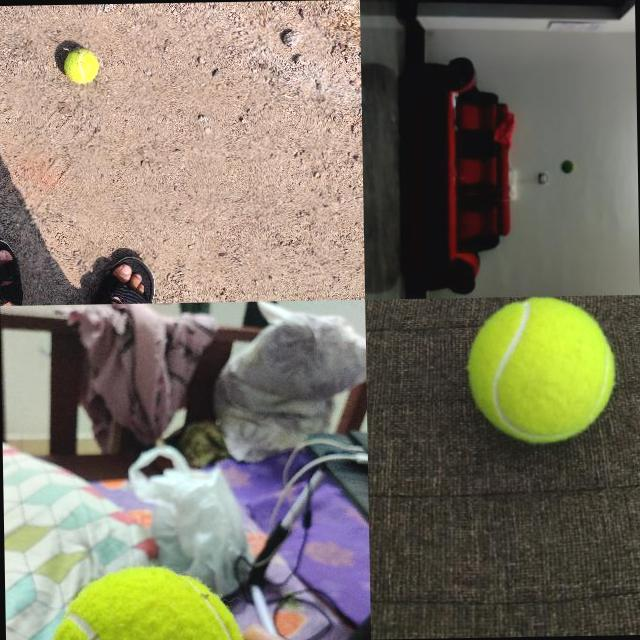Tennis Ball: (467, 294, 618, 444), (46, 562, 247, 640), (64, 48, 99, 82), (562, 160, 576, 173)
